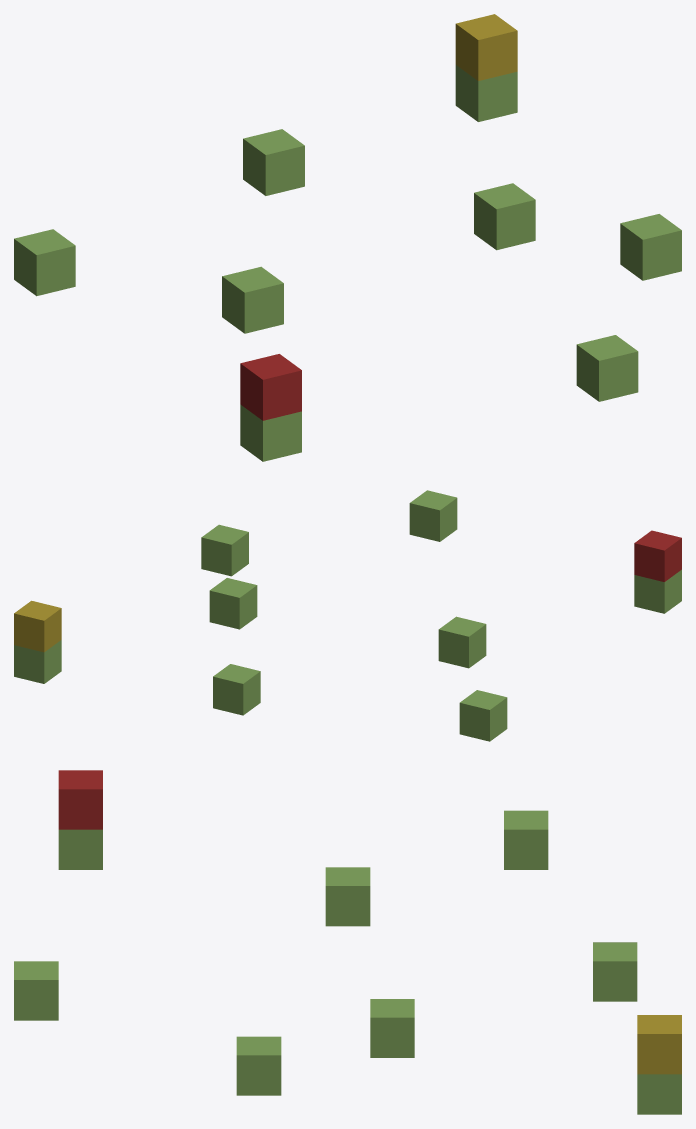
Rendered from ambient_grass_0.fbx.
The picture shows the model from 3 angles, top to bottom: view 1: azimuth 30°, elevation 25°; view 2: azimuth 150°, elevation 25°; view 3: azimuth 270°, elevation 25°; orthographic projection. The views are drawn at different scales.
Visible parts, largest first — view 1: Cube.013; view 2: Cube.013; view 3: Cube.013.
Boxes of the visible parts, x1,y1,x2,y2 form: Cube.013: (14,14,681,461); Cube.013: (14,490,681,741); Cube.013: (14,770,681,1114).
Size of the model in its own units: 140 by 20 by 150.
